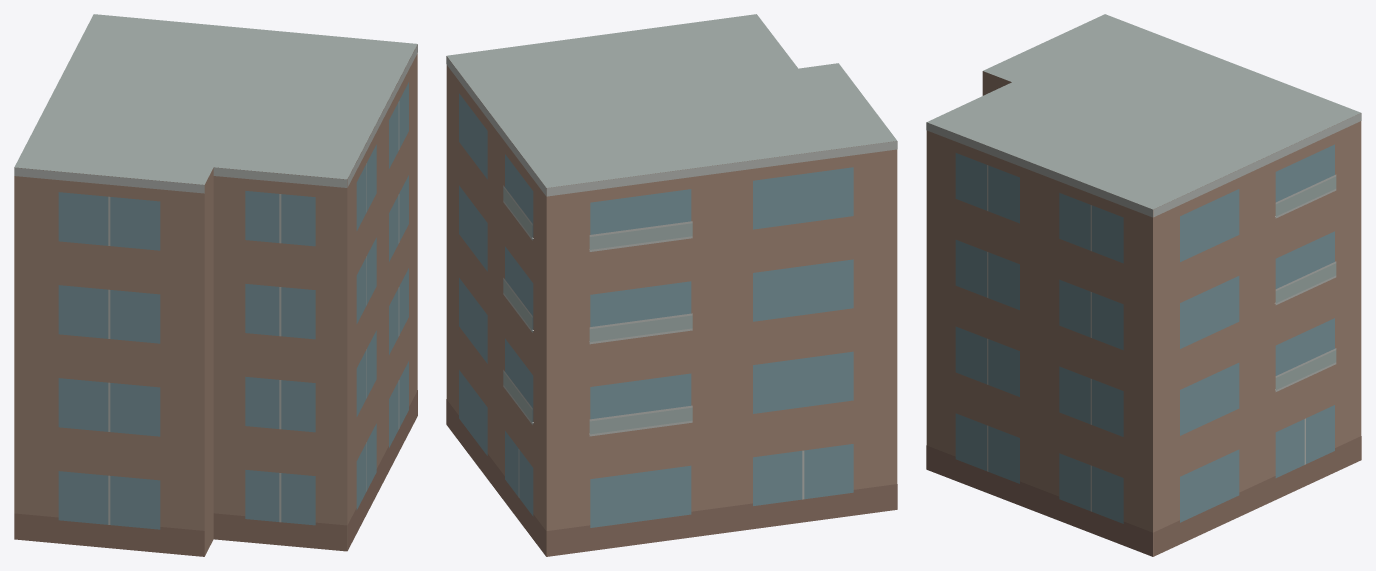
The model's file is survey-upis-32533931.glb.
3 renders of one model, left to right at view 1: azimuth 30°, elevation 25°; view 2: azimuth 150°, elevation 25°; view 3: azimuth 270°, elevation 25°, orthographic. The views are drawn at different scales.
Visible parts, largest first — view 1: survey-upis-32533931.tmp; view 2: survey-upis-32533931.tmp; view 3: survey-upis-32533931.tmp.
Boxes of the visible parts, x1=… form: survey-upis-32533931.tmp: x1=14, y1=14, x2=417, y2=556; survey-upis-32533931.tmp: x1=446, y1=14, x2=897, y2=556; survey-upis-32533931.tmp: x1=926, y1=14, x2=1361, y2=556.
Size of the model in its own units: 12.69 by 10.5 by 11.92.
